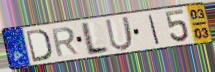5: (164, 9, 191, 44)
D: (24, 28, 53, 64)
I: (147, 14, 161, 46)
L: (81, 20, 110, 57)
R: (50, 26, 81, 58)
U: (104, 14, 135, 52)
